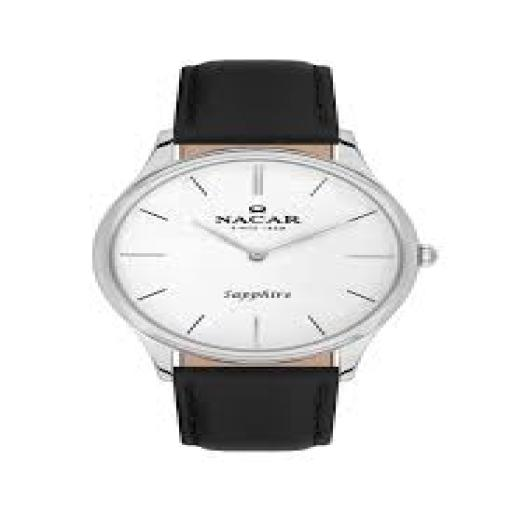KolSaati: (43, 34, 464, 467)
